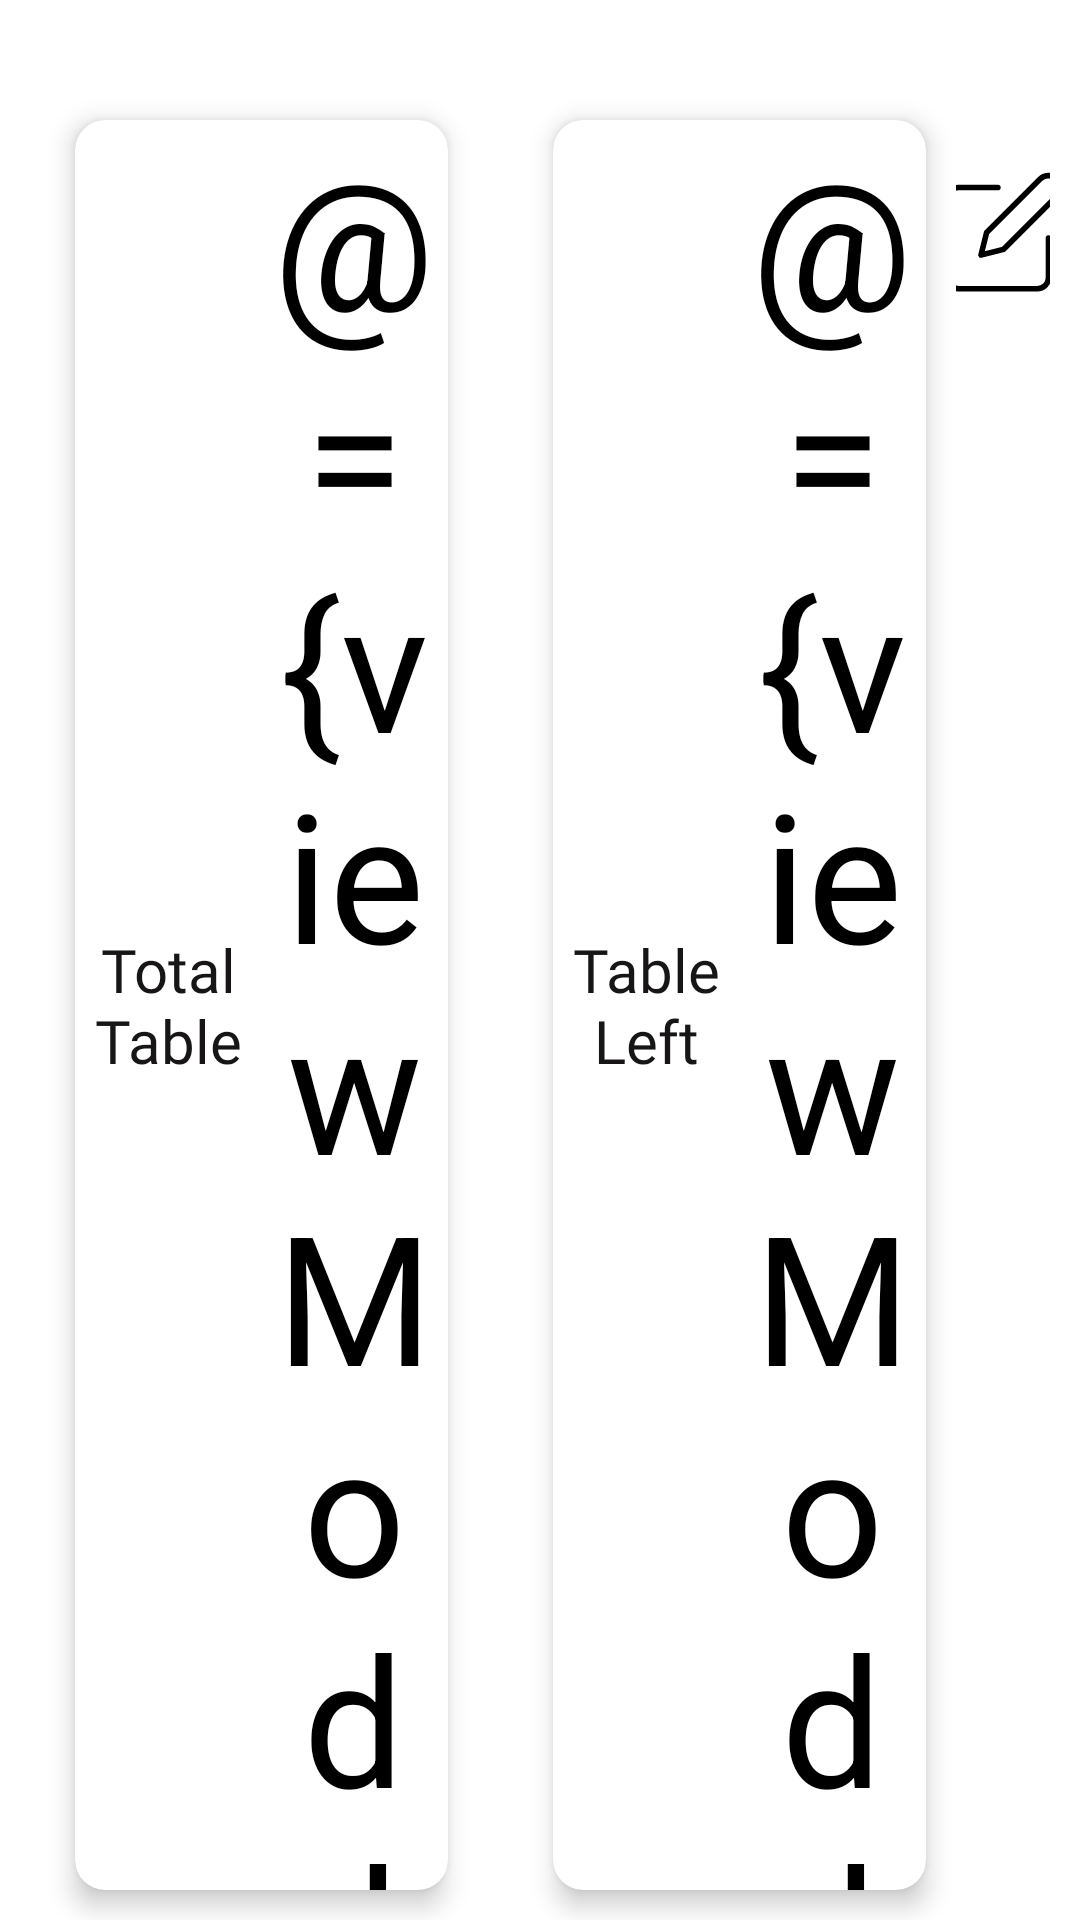

Point at icon controls on the screen. Image size 1080×1920, points as [x,y].
edit: [1003,232]
